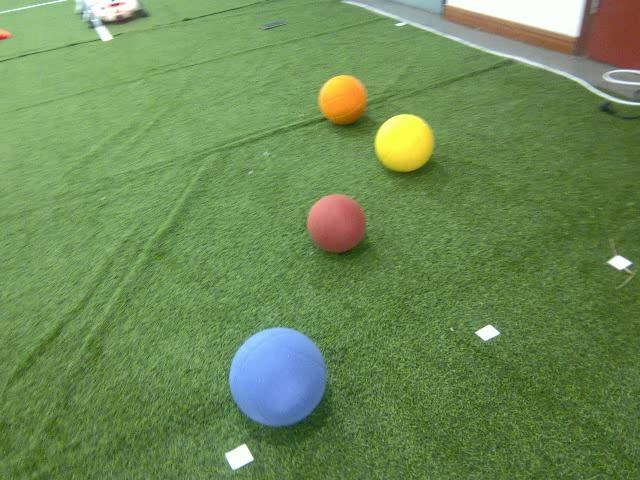blue_ball: (228, 327, 328, 429)
orange_ball: (316, 74, 368, 129)
red_ball: (304, 195, 368, 253)
yellow_ball: (369, 112, 436, 174)
